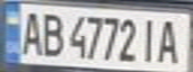2: (118, 15, 139, 63)
4: (63, 11, 87, 58)
7: (84, 12, 106, 61), (100, 14, 121, 62)
A: (154, 16, 184, 65), (18, 8, 45, 56)
B: (39, 9, 66, 57)
I: (136, 15, 160, 64)
